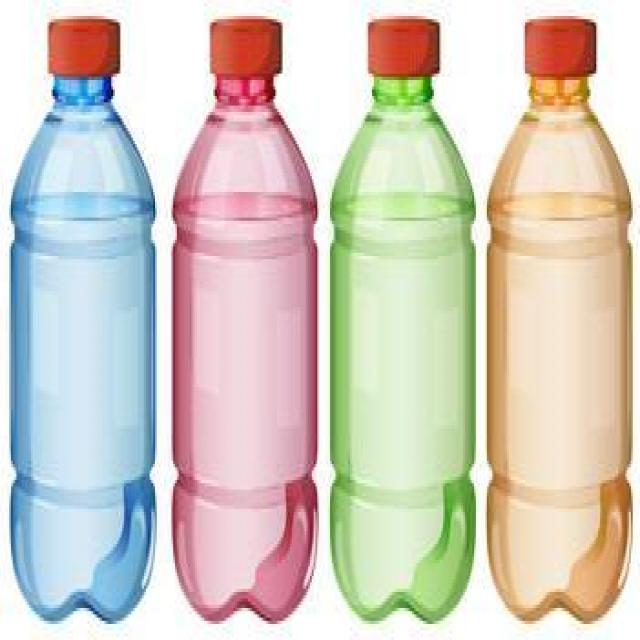plastic_bottle: (162, 13, 323, 624), (480, 12, 640, 623), (5, 13, 160, 624), (330, 9, 478, 630)
